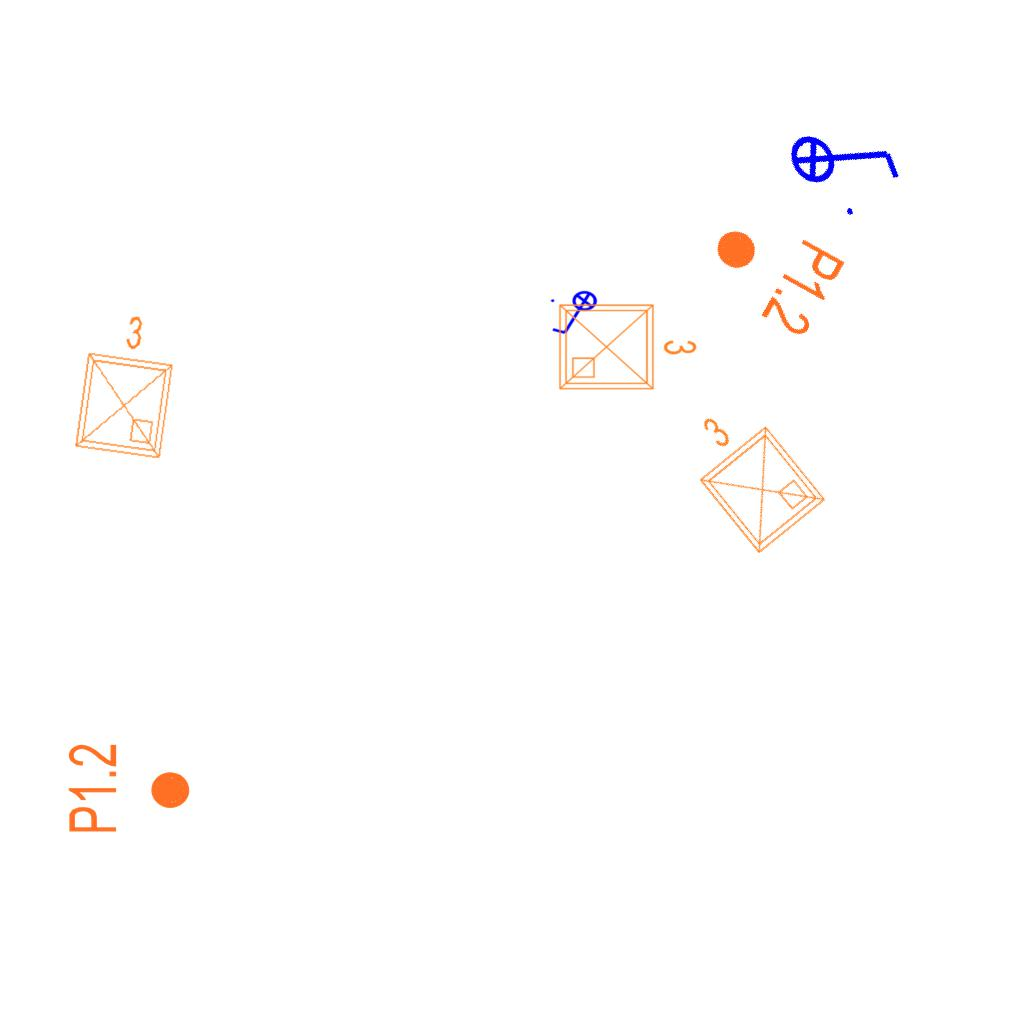Ausschalter_beleuchtet: (772, 84, 916, 232), (548, 290, 604, 338)
Downlight_LED_Einbauleuchten_Flur: (692, 199, 851, 343), (65, 742, 193, 835)
Einbaudownlights_LED_Konferenzraeume: (660, 383, 836, 567), (63, 303, 187, 467), (552, 293, 702, 397)
